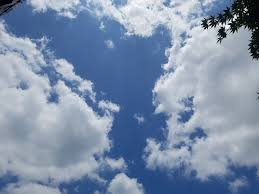sky: (1, 3, 256, 194)
